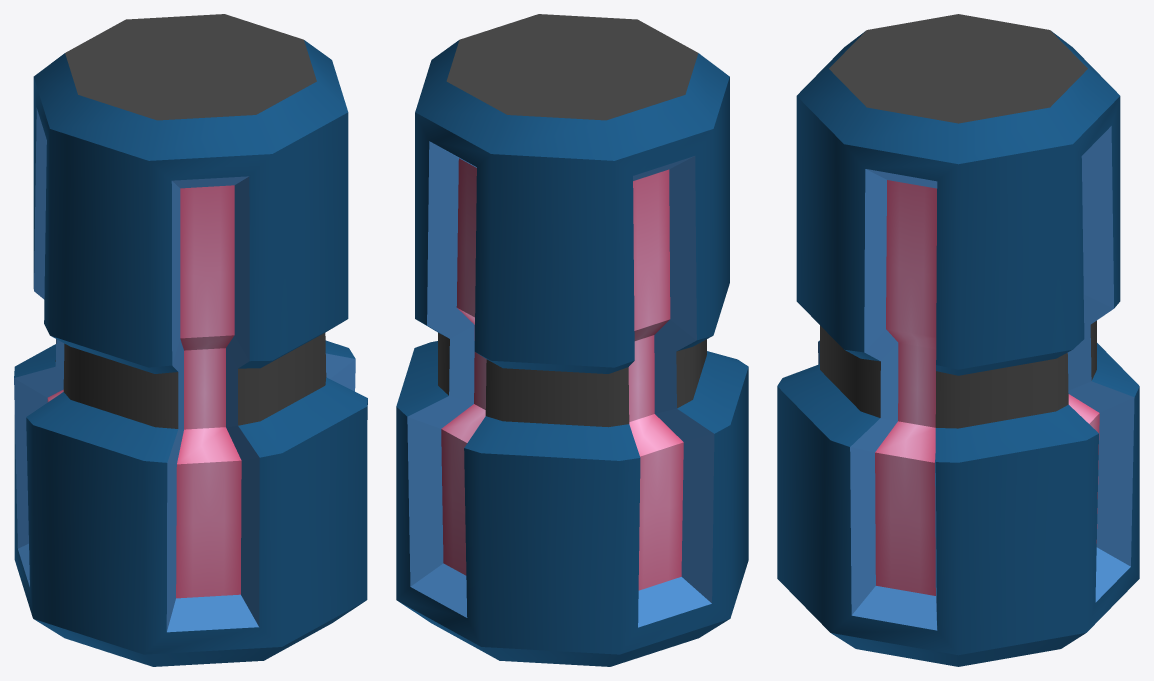
Rendered from Laser_Ammo.fbx.
3 renders of one model, left to right at view 1: azimuth 30°, elevation 25°; view 2: azimuth 150°, elevation 25°; view 3: azimuth 270°, elevation 25°, orthographic.
Visible parts, largest first — view 1: Laser_Ammo; view 2: Laser_Ammo; view 3: Laser_Ammo.
Part boxes in pixels (x1,y1,x2,y2): Laser_Ammo: (14,14,367,666); Laser_Ammo: (396,14,748,666); Laser_Ammo: (777,14,1139,666).
Size of the model in its own units: 1.34 by 2.2 by 1.34.
